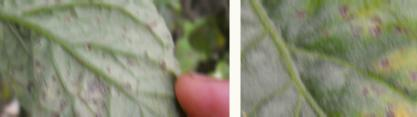Tomato Septoria leaf spot: (0, 0, 207, 117), (255, 0, 417, 117)
